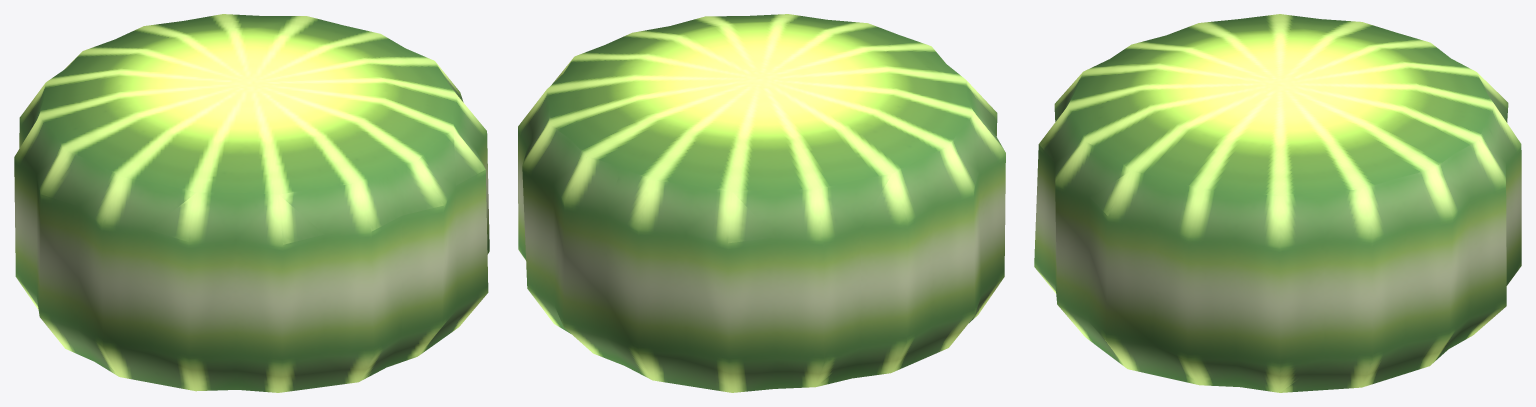
File: plankton.glb
3 renders of one model, left to right at view 1: azimuth 30°, elevation 25°; view 2: azimuth 150°, elevation 25°; view 3: azimuth 270°, elevation 25°, orthographic.
Parts seen in each view (by area): view 1: Plankton; view 2: Plankton; view 3: Plankton.
Part boxes in pixels (<box>): Plankton: <box>14,14,489,392</box>; Plankton: <box>518,14,1005,392</box>; Plankton: <box>1034,14,1521,392</box>.
Bounding box in the file's own units: 0.3644 × 0.2 × 0.3651.
Materials: 1 (1 with a texture image).
